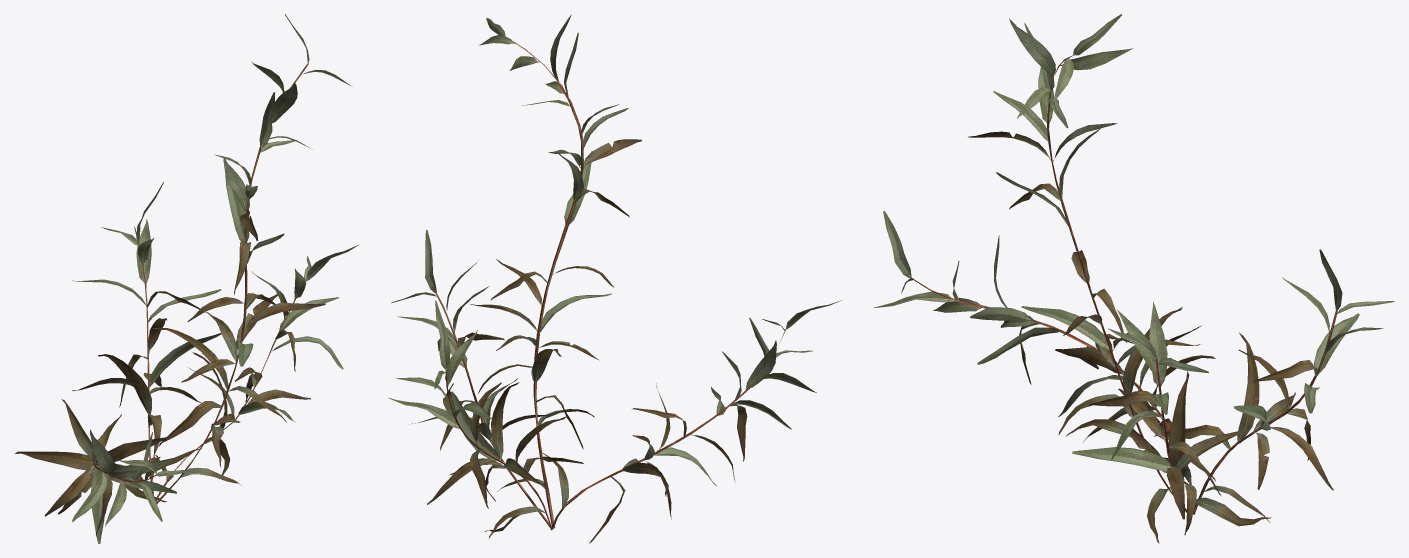
File: shrub_02_b.glb
3 views of the same model, side by side, from view 1: azimuth 30°, elevation 25°; view 2: azimuth 150°, elevation 25°; view 3: azimuth 270°, elevation 25° (orthographic). The views are drawn at different scales.
Parts seen in each view (by area): view 1: shrub_02_b; view 2: shrub_02_b; view 3: shrub_02_b.
Part boxes in pixels (x1,y1,x2,y2): shrub_02_b: [15, 14, 358, 543]; shrub_02_b: [388, 14, 841, 543]; shrub_02_b: [874, 14, 1394, 543].
Size of the model in its own units: 1.11 by 1.51 by 1.28.
Materials: 1 (1 with a texture image).
